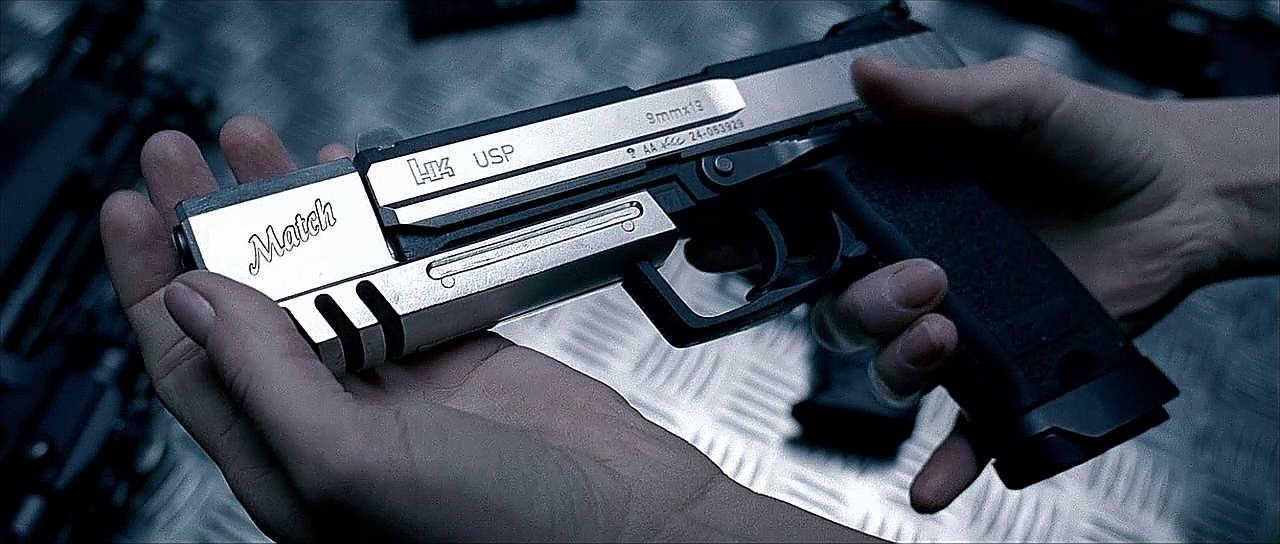gun: (143, 14, 1181, 495)
